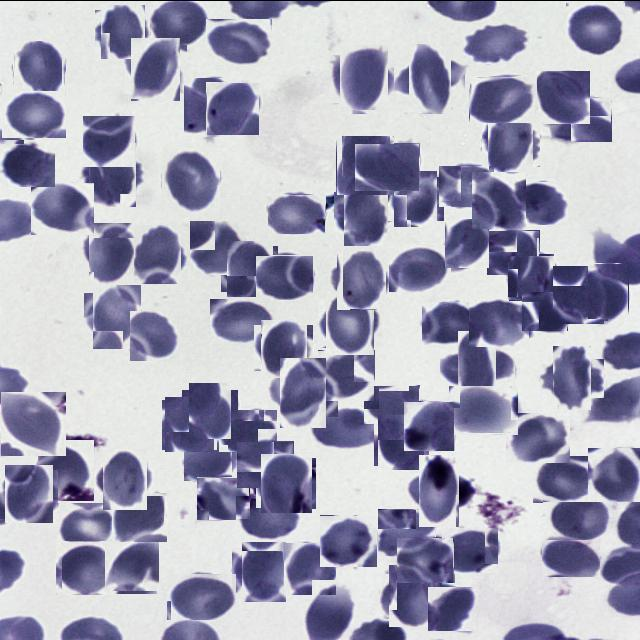red blood cell: (1, 391, 66, 455), (160, 148, 222, 210), (334, 48, 394, 108), (448, 384, 518, 434), (274, 363, 332, 422), (38, 439, 94, 500), (336, 136, 394, 194), (469, 74, 538, 122), (167, 572, 237, 619), (31, 182, 94, 234), (449, 339, 506, 396), (126, 40, 184, 96), (506, 412, 570, 462), (401, 50, 458, 106), (56, 540, 115, 594), (184, 78, 237, 138), (85, 146, 141, 202), (322, 294, 378, 350), (412, 462, 468, 518), (190, 219, 247, 274), (566, 2, 625, 55), (543, 496, 614, 540), (355, 142, 420, 190), (206, 18, 272, 65), (236, 542, 292, 597), (89, 288, 144, 344), (258, 455, 314, 510), (472, 171, 526, 228), (320, 514, 378, 566), (2, 90, 66, 137), (236, 496, 301, 542), (85, 226, 140, 280), (210, 298, 276, 343), (552, 267, 606, 322), (98, 451, 152, 505), (334, 252, 388, 306), (389, 244, 451, 291), (318, 349, 375, 400), (469, 298, 529, 346), (533, 455, 594, 502), (339, 187, 393, 240), (384, 569, 438, 622), (536, 70, 590, 123), (2, 467, 56, 520), (463, 22, 531, 64), (305, 406, 374, 447), (130, 228, 184, 280), (588, 447, 640, 501), (112, 491, 168, 541), (550, 96, 612, 141), (257, 322, 310, 374), (163, 398, 216, 450), (223, 242, 276, 294), (83, 114, 136, 166), (378, 508, 436, 555), (56, 502, 115, 548), (484, 117, 536, 169), (14, 41, 66, 93), (284, 542, 336, 594), (106, 540, 158, 592), (0, 138, 56, 186), (237, 440, 294, 487), (396, 536, 454, 582), (546, 352, 598, 403), (442, 526, 499, 572), (256, 254, 314, 299), (376, 416, 427, 467), (404, 400, 455, 450), (219, 408, 278, 451), (98, 6, 148, 56), (391, 173, 441, 223), (185, 386, 235, 436), (422, 301, 478, 345), (130, 310, 179, 360), (487, 229, 540, 274), (439, 164, 495, 206), (268, 193, 326, 233), (542, 537, 601, 576), (588, 262, 629, 318), (515, 181, 568, 224), (197, 476, 250, 519), (428, 586, 478, 630), (364, 384, 420, 423), (508, 253, 554, 300), (445, 218, 489, 267), (184, 440, 232, 480), (522, 290, 568, 330)
ring: (206, 82, 258, 134)
